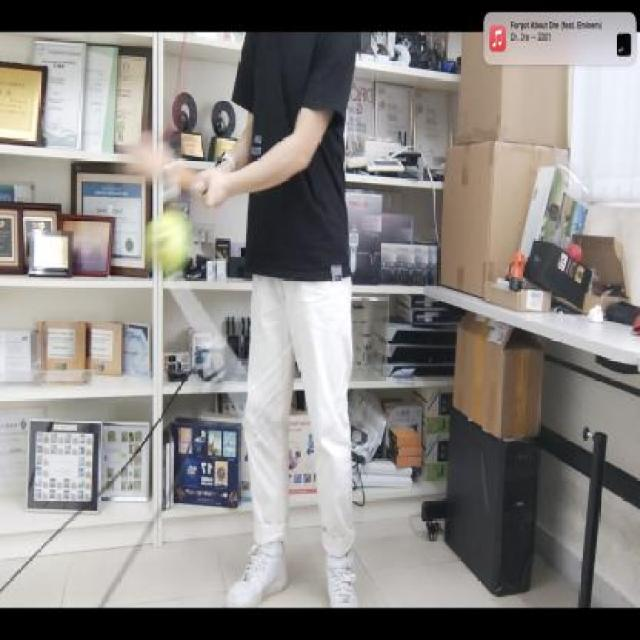baseball: (142, 205, 192, 281)
